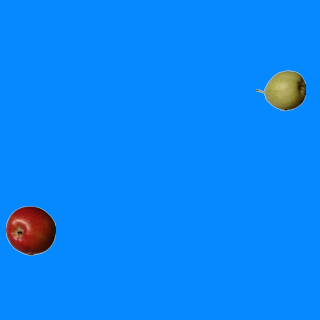Apple Braeburn: (5, 205, 55, 255)
Pear: (255, 65, 305, 115)
